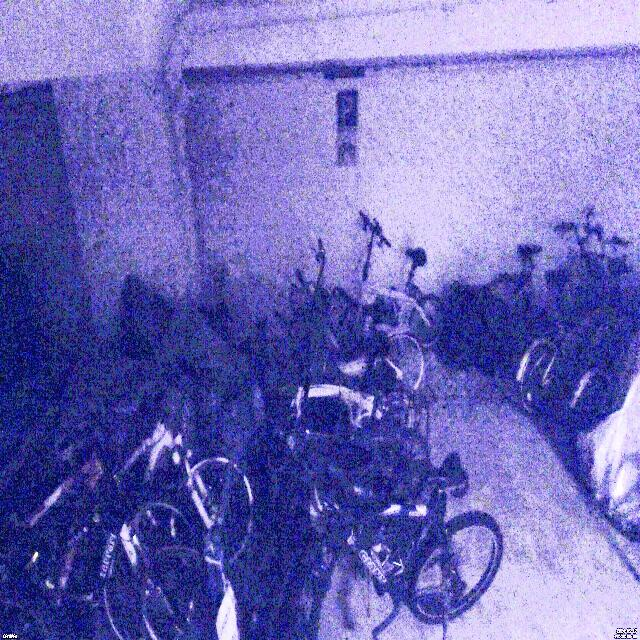bike: (30, 403, 255, 578), (296, 452, 502, 640), (481, 219, 611, 355), (337, 213, 443, 367)
